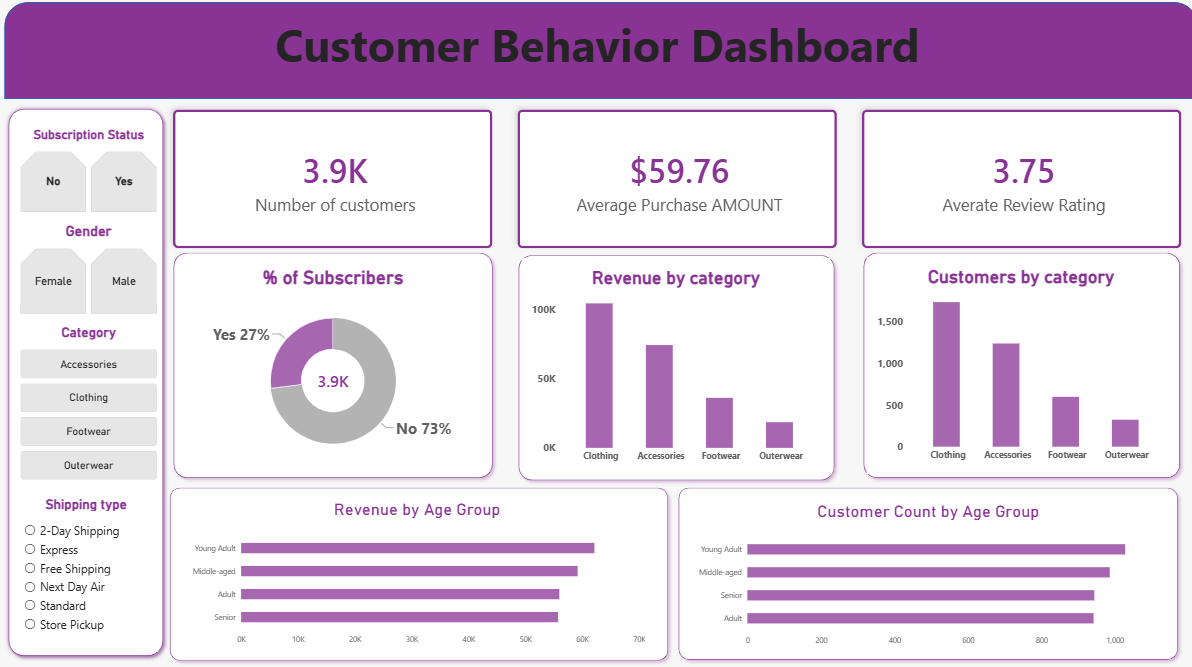

The dashboard page shown, as its layout file describes it:
{"tool":"powerbi","page":{"name":"Page 1","canvas":[1920,1080],"ordinal":0},"visuals":[{"type":"cardVisual","fields":{"Data":["customer_behaviour customer_shopping_behavior.Number of customers","customer_behaviour customer_shopping_behavior.Average Purchase AMOUNT","customer_behaviour customer_shopping_behavior.Averate Review Rating"]},"box":[263.3,163.3,1646.7,254.7],"z":0,"group":"g2"},{"type":"shape","box":[823.3,403.3,523.3,378.3],"z":0},{"type":"group","id":"g1","title":"Group 1","box":[271.7,401,528.3,378.3],"z":1000,"group":"g2"},{"type":"clusteredColumnChart","title":"Revenue by category","fields":{"Y":["Sum(customer_behaviour customer_shopping_behavior.purchase_amount)"],"Category":["customer_behaviour customer_shopping_behavior.category"]},"box":[838.3,418.3,493.3,347],"z":1000},{"type":"shape","box":[10,8.3,1910,155],"z":2000,"group":"g2"},{"type":"shape","box":[8.3,170,265,893.3],"z":2000},{"type":"group","id":"g2","title":"Group 4","box":[10,8.3,1910,1062.8],"z":3000},{"type":"shape","box":[271.7,401,528.3,378.3],"z":3000,"group":"g1"},{"type":"shape","box":[1375,401,524.1,378.5],"z":3000,"group":"g3"},{"type":"shape","box":[266.7,776.1,815,295],"z":3000,"group":"g2"},{"type":"textbox","box":[0,26.7,1918.3,101.7],"z":4000},{"type":"group","id":"g3","title":"Group 2","box":[1375,401,523.3,378.3],"z":4000,"group":"g2"},{"type":"donutChart","title":"% of Subscribers","fields":{"Category":["customer_behaviour customer_shopping_behavior.subscription_status"],"Y":["CountNonNull(customer_behaviour customer_shopping_behavior.customer_id)"]},"box":[296.9,416.7,476.2,347],"z":4000,"group":"g1"},{"type":"shape","box":[1080,776.1,816.7,293.3],"z":4000,"group":"g4"},{"type":"advancedSlicerVisual","title":"Subscription Status","fields":{"Values":["customer_behaviour customer_shopping_behavior.subscription_status"]},"box":[36.7,208.3,218.3,136.7],"z":5000,"group":"g2"},{"type":"clusteredColumnChart","title":"Customers by category","fields":{"Category":["customer_behaviour customer_shopping_behavior.category"],"Y":["CountNonNull(customer_behaviour customer_shopping_behavior.customer_id)"]},"box":[1389.2,416.7,494.1,347.1],"z":5001,"group":"g3"},{"type":"advancedSlicerVisual","title":"Gender","fields":{"Values":["customer_behaviour customer_shopping_behavior.gender"]},"box":[36.7,360,218,146.5],"z":6000,"group":"g2"},{"type":"clusteredBarChart","title":"Revenue by Age Group","fields":{"Y":["Sum(customer_behaviour customer_shopping_behavior.purchase_amount)"],"Category":["customer_behaviour customer_shopping_behavior.age_group"]},"box":[290,791.1,761.7,266.7],"z":7000,"group":"g2"},{"type":"advancedSlicerVisual","title":"Category","fields":{"Values":["customer_behaviour customer_shopping_behavior.category"]},"box":[36.7,525,218.3,248.3],"z":8000,"group":"g2"},{"type":"clusteredBarChart","title":"Customer Count by Age Group","fields":{"Category":["customer_behaviour customer_shopping_behavior.age_group"],"Y":["CountNonNull(customer_behaviour customer_shopping_behavior.customer_id)"]},"box":[1100.5,791.2,776.8,266.5],"z":8001,"group":"g4"},{"type":"listSlicer","title":"Shipping type","fields":{"Values":["customer_behaviour customer_shopping_behavior.shipping_type"]},"box":[42,796.3,218.3,261.7],"z":9000,"group":"g2"},{"type":"group","id":"g4","title":"Group 3","box":[1080,776.1,816.7,293.3],"z":10000,"group":"g2"}]}

Visuals, with their boxes in screenshot pixels (x1, y1, x2, y2), scaled from the page's 1920x1080 canvas onto the 1192x667 screenshot:
cardVisual - customer_behaviour customer_shopping_behavior.Number of customers x customer_behaviour customer_shopping_behavior.Average Purchase AMOUNT: [left=163, top=101, right=1186, bottom=258]
shape: [left=511, top=249, right=836, bottom=483]
"Group 1" group: [left=169, top=248, right=497, bottom=481]
"Revenue by category" clusteredColumnChart: [left=520, top=258, right=827, bottom=473]
shape: [left=6, top=5, right=1191, bottom=101]
shape: [left=5, top=105, right=170, bottom=657]
"Group 4" group: [left=6, top=5, right=1191, bottom=662]
shape: [left=169, top=248, right=497, bottom=481]
shape: [left=854, top=248, right=1179, bottom=481]
shape: [left=166, top=479, right=672, bottom=662]
textbox: [left=0, top=16, right=1191, bottom=79]
"Group 2" group: [left=854, top=248, right=1179, bottom=481]
"% of Subscribers" donutChart: [left=184, top=257, right=480, bottom=472]
shape: [left=670, top=479, right=1178, bottom=660]
"Subscription Status" advancedSlicerVisual: [left=23, top=129, right=158, bottom=213]
"Customers by category" clusteredColumnChart: [left=862, top=257, right=1169, bottom=472]
"Gender" advancedSlicerVisual: [left=23, top=222, right=158, bottom=313]
"Revenue by Age Group" clusteredBarChart: [left=180, top=489, right=653, bottom=653]
"Category" advancedSlicerVisual: [left=23, top=324, right=158, bottom=478]
"Customer Count by Age Group" clusteredBarChart: [left=683, top=489, right=1165, bottom=653]
"Shipping type" listSlicer: [left=26, top=492, right=162, bottom=653]
"Group 3" group: [left=670, top=479, right=1178, bottom=660]
